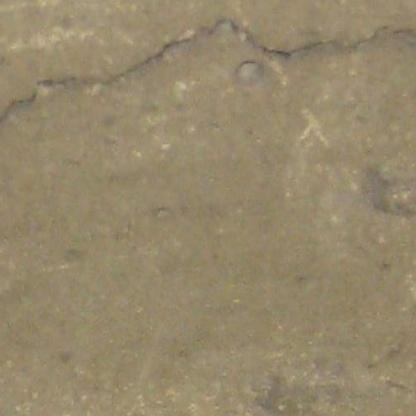Cracks: (205, 17, 374, 63), (107, 33, 199, 86), (0, 75, 78, 136), (392, 27, 416, 48)
